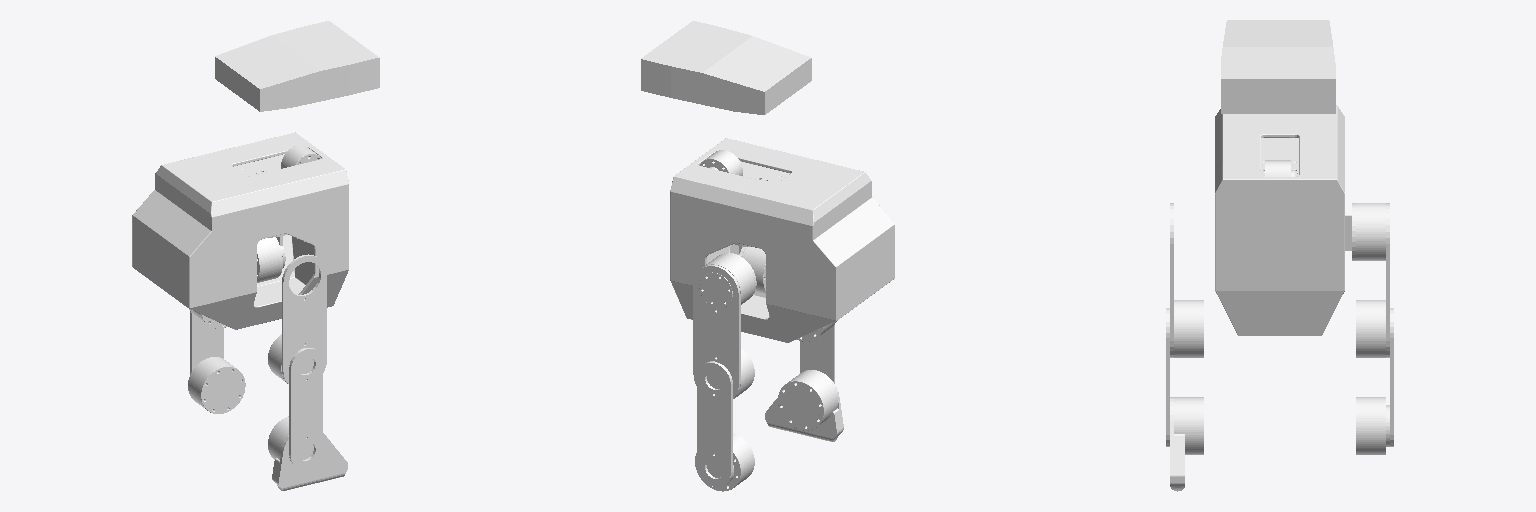
The robot description file, URDF, robot "DuckDuck":
<?xml version="1.0" encoding="utf-8"?>
<!-- This URDF was automatically created by SolidWorks to URDF Exporter! Originally created by [author] ([email redacted]) 
     Commit Version: 1.6.0-4-g7f85cfe  Build Version: 1.6.7995.38578
     For more information, please see http://wiki.ros.org/sw_urdf_exporter -->
<robot
  name="DuckDuck">
  <link
    name="base">
    <inertial>
      <origin
        xyz="-0.0100928530626795 -8.48766786223088E-05 0.0417109438407734"
        rpy="0 0 0" />
      <mass
        value="1.70037419863104" />
      <inertia
        ixx="0.011026305690898"
        ixy="1.15603196806844E-08"
        ixz="0.000185395732857203"
        iyy="0.0172159470283866"
        iyz="-8.11570230368693E-09"
        izz="0.0151809445338661" />
    </inertial>
    <visual>
      <origin
        xyz="0 0 0"
        rpy="0 0 0" />
      <geometry>
        <mesh
          filename="package://DuckDuck/meshes/base.STL" />
      </geometry>
      <material
        name="">
        <color
          rgba="1 1 1 1" />
      </material>
    </visual>
    <collision>
      <origin
        xyz="0 0 0"
        rpy="0 0 0" />
      <geometry>
        <mesh
          filename="package://DuckDuck/meshes/base.STL" />
      </geometry>
    </collision>
  </link>
  <link
    name="left_hip_yaw">
    <inertial>
      <origin
        xyz="-0.0148415027804522 -1.42278207764107E-05 0.00518098759586441"
        rpy="0 0 0" />
      <mass
        value="0.22770651071542" />
      <inertia
        ixx="0.00016064594987398"
        ixy="-1.05844380132886E-08"
        ixz="2.79494697437767E-06"
        iyy="0.000122883197379238"
        iyz="5.01180502056662E-08"
        izz="0.000114845036646105" />
    </inertial>
    <visual>
      <origin
        xyz="0 0 0"
        rpy="0 0 0" />
      <geometry>
        <mesh
          filename="package://DuckDuck/meshes/left_hip_yaw.STL" />
      </geometry>
      <material
        name="">
        <color
          rgba="1 1 1 1" />
      </material>
    </visual>
    <collision>
      <origin
        xyz="0 0 0"
        rpy="0 0 0" />
      <geometry>
        <mesh
          filename="package://DuckDuck/meshes/left_hip_yaw.STL" />
      </geometry>
    </collision>
  </link>
  <joint
    name="left_hip_yaw_joint"
    type="revolute">
    <origin
      xyz="0 0.04 0"
      rpy="0 0 0" />
    <parent
      link="base" />
    <child
      link="left_hip_yaw" />
    <axis
      xyz="0 0 1" />
    <limit
      lower="0"
      upper="0"
      effort="0"
      velocity="0" />
  </joint>
  <link
    name="left_hip_roll">
    <inertial>
      <origin
        xyz="0.000168686556307626 0.0732538542750958 -1.42428991109084E-05"
        rpy="0 0 0" />
      <mass
        value="0.22746544778837" />
      <inertia
        ixx="0.000139061664775468"
        ixy="9.72203682012483E-07"
        ixz="-3.27718468280223E-09"
        iyy="0.000154215112847962"
        iyz="5.57863354309883E-08"
        izz="0.000132221036670331" />
    </inertial>
    <visual>
      <origin
        xyz="0 0 0"
        rpy="0 0 0" />
      <geometry>
        <mesh
          filename="package://DuckDuck/meshes/left_hip_roll.STL" />
      </geometry>
      <material
        name="">
        <color
          rgba="1 1 1 1" />
      </material>
    </visual>
    <collision>
      <origin
        xyz="0 0 0"
        rpy="0 0 0" />
      <geometry>
        <mesh
          filename="package://DuckDuck/meshes/left_hip_roll.STL" />
      </geometry>
    </collision>
  </link>
  <joint
    name="left_hip_roll_joint"
    type="revolute">
    <origin
      xyz="0 0 0"
      rpy="0 0 0" />
    <parent
      link="left_hip_yaw" />
    <child
      link="left_hip_roll" />
    <axis
      xyz="1 0 0" />
    <limit
      lower="0"
      upper="0"
      effort="0"
      velocity="0" />
  </joint>
  <link
    name="left_hip_pitch">
    <inertial>
      <origin
        xyz="-3.32202824204654E-16 0.0845594117245176 -0.125225619873394"
        rpy="0 0 0" />
      <mass
        value="0.24023854356995" />
      <inertia
        ixx="0.000225138484662056"
        ixy="-4.43280210739743E-22"
        ixz="-1.35357677623209E-19"
        iyy="0.000288595828376715"
        iyz="3.51421674682321E-20"
        izz="0.000123129101652142" />
    </inertial>
    <visual>
      <origin
        xyz="0 0 0"
        rpy="0 0 0" />
      <geometry>
        <mesh
          filename="package://DuckDuck/meshes/left_hip_pitch.STL" />
      </geometry>
      <material
        name="">
        <color
          rgba="1 1 1 1" />
      </material>
    </visual>
    <collision>
      <origin
        xyz="0 0 0"
        rpy="0 0 0" />
      <geometry>
        <mesh
          filename="package://DuckDuck/meshes/left_hip_pitch.STL" />
      </geometry>
    </collision>
  </link>
  <joint
    name="left_hip_pitch_joint"
    type="revolute">
    <origin
      xyz="0 0 0"
      rpy="0 0 0" />
    <parent
      link="left_hip_roll" />
    <child
      link="left_hip_pitch" />
    <axis
      xyz="0 1 0" />
    <limit
      lower="0"
      upper="0"
      effort="0"
      velocity="0" />
  </joint>
  <link
    name="left_knee_pitch">
    <inertial>
      <origin
        xyz="-3.12005691558595E-16 -0.00857325265941739 -0.127010278601144"
        rpy="0 0 0" />
      <mass
        value="0.232718078417979" />
      <inertia
        ixx="0.000202660360914128"
        ixy="6.13649057241039E-21"
        ixz="-1.26670406604961E-19"
        iyy="0.000249803523853592"
        iyz="4.09634684632911E-20"
        izz="0.000106783585605481" />
    </inertial>
    <visual>
      <origin
        xyz="0 0 0"
        rpy="0 0 0" />
      <geometry>
        <mesh
          filename="package://DuckDuck/meshes/left_knee_pitch.STL" />
      </geometry>
      <material
        name="">
        <color
          rgba="1 1 1 1" />
      </material>
    </visual>
    <collision>
      <origin
        xyz="0 0 0"
        rpy="0 0 0" />
      <geometry>
        <mesh
          filename="package://DuckDuck/meshes/left_knee_pitch.STL" />
      </geometry>
    </collision>
  </link>
  <joint
    name="left_knee_pitch_joint"
    type="revolute">
    <origin
      xyz="0 0.0936181760425075 -0.14"
      rpy="0 0 0" />
    <parent
      link="left_hip_pitch" />
    <child
      link="left_knee_pitch" />
    <axis
      xyz="0 1 0" />
    <limit
      lower="0"
      upper="0"
      effort="0"
      velocity="0" />
  </joint>
  <link
    name="left_ankle_pitch">
    <inertial>
      <origin
        xyz="0.0165320915802277 0.000878638979678964 -0.0350036570544409"
        rpy="0 0 0" />
      <mass
        value="0.0934205516990418" />
      <inertia
        ixx="4.08203466514556E-05"
        ixy="1.35770948841666E-06"
        ixz="3.73111146640576E-07"
        iyy="0.000143785268215984"
        iyz="-2.85203021993322E-06"
        izz="0.000109322370322" />
    </inertial>
    <visual>
      <origin
        xyz="0 0 0"
        rpy="0 0 0" />
      <geometry>
        <mesh
          filename="package://DuckDuck/meshes/left_ankle_pitch.STL" />
      </geometry>
      <material
        name="">
        <color
          rgba="1 1 1 1" />
      </material>
    </visual>
    <collision>
      <origin
        xyz="0 0 0"
        rpy="0 0 0" />
      <geometry>
        <mesh
          filename="package://DuckDuck/meshes/left_ankle_pitch.STL" />
      </geometry>
    </collision>
  </link>
  <joint
    name="left_ankle_pitch_joint"
    type="revolute">
    <origin
      xyz="0 0 -0.14"
      rpy="0 0 0" />
    <parent
      link="left_knee_pitch" />
    <child
      link="left_ankle_pitch" />
    <axis
      xyz="0 1 0" />
    <limit
      lower="0"
      upper="0"
      effort="0"
      velocity="0" />
  </joint>
  <link
    name="right_hip_yaw">
    <inertial>
      <origin
        xyz="-0.0148415027804522 -1.4227820776147E-05 0.00518098759586436"
        rpy="0 0 0" />
      <mass
        value="0.22770651071542" />
      <inertia
        ixx="0.00016064594987398"
        ixy="-1.05844380133239E-08"
        ixz="2.79494697437761E-06"
        iyy="0.000122883197379238"
        iyz="5.01180502056588E-08"
        izz="0.000114845036646105" />
    </inertial>
    <visual>
      <origin
        xyz="0 0 0"
        rpy="0 0 0" />
      <geometry>
        <mesh
          filename="package://DuckDuck/meshes/right_hip_yaw.STL" />
      </geometry>
      <material
        name="">
        <color
          rgba="1 1 1 1" />
      </material>
    </visual>
    <collision>
      <origin
        xyz="0 0 0"
        rpy="0 0 0" />
      <geometry>
        <mesh
          filename="package://DuckDuck/meshes/right_hip_yaw.STL" />
      </geometry>
    </collision>
  </link>
  <joint
    name="right_hip_yaw_joint"
    type="revolute">
    <origin
      xyz="0 -0.04 0"
      rpy="0 0 0" />
    <parent
      link="base" />
    <child
      link="right_hip_yaw" />
    <axis
      xyz="0 0 1" />
    <limit
      lower="0"
      upper="0"
      effort="0"
      velocity="0" />
  </joint>
  <link
    name="right_hip_roll">
    <inertial>
      <origin
        xyz="0.000168686556307084 -0.073253854275096 1.42428991107141E-05"
        rpy="0 0 0" />
      <mass
        value="0.22746544778837" />
      <inertia
        ixx="0.000139061664775468"
        ixy="-9.72203682012506E-07"
        ixz="3.27718468277945E-09"
        iyy="0.000154215112847962"
        iyz="5.57863354310647E-08"
        izz="0.000132221036670331" />
    </inertial>
    <visual>
      <origin
        xyz="0 0 0"
        rpy="0 0 0" />
      <geometry>
        <mesh
          filename="package://DuckDuck/meshes/right_hip_roll.STL" />
      </geometry>
      <material
        name="">
        <color
          rgba="1 1 1 1" />
      </material>
    </visual>
    <collision>
      <origin
        xyz="0 0 0"
        rpy="0 0 0" />
      <geometry>
        <mesh
          filename="package://DuckDuck/meshes/right_hip_roll.STL" />
      </geometry>
    </collision>
  </link>
  <joint
    name="right_hip_roll_joint"
    type="revolute">
    <origin
      xyz="0 0 0"
      rpy="0 0 0" />
    <parent
      link="right_hip_yaw" />
    <child
      link="right_hip_roll" />
    <axis
      xyz="1 0 0" />
    <limit
      lower="0"
      upper="0"
      effort="0"
      velocity="0" />
  </joint>
  <link
    name="right_hip_pitch">
    <inertial>
      <origin
        xyz="9.8006072213064E-17 -0.0845594117245176 -0.125225619873394"
        rpy="0 0 0" />
      <mass
        value="0.24023854356995" />
      <inertia
        ixx="0.000225138484662056"
        ixy="-5.10276734197436E-20"
        ixz="-1.59794603006488E-19"
        iyy="0.000288595828376715"
        iyz="-2.41601703029954E-20"
        izz="0.000123129101652142" />
    </inertial>
    <visual>
      <origin
        xyz="0 0 0"
        rpy="0 0 0" />
      <geometry>
        <mesh
          filename="package://DuckDuck/meshes/right_hip_pitch.STL" />
      </geometry>
      <material
        name="">
        <color
          rgba="1 1 1 1" />
      </material>
    </visual>
    <collision>
      <origin
        xyz="0 0 0"
        rpy="0 0 0" />
      <geometry>
        <mesh
          filename="package://DuckDuck/meshes/right_hip_pitch.STL" />
      </geometry>
    </collision>
  </link>
  <joint
    name="right_hip_pitch_joint"
    type="revolute">
    <origin
      xyz="0 0 0"
      rpy="0 0 0" />
    <parent
      link="right_hip_roll" />
    <child
      link="right_hip_pitch" />
    <axis
      xyz="0 -1 0" />
    <limit
      lower="0"
      upper="0"
      effort="0"
      velocity="0" />
  </joint>
  <link
    name="right_knee_pitch">
    <inertial>
      <origin
        xyz="-1.85650662362224E-16 0.00857325265941841 -0.127010278601144"
        rpy="0 0 0" />
      <mass
        value="0.232718078417979" />
      <inertia
        ixx="0.000202660360914127"
        ixy="-3.41749317195182E-20"
        ixz="-1.53656921997374E-19"
        iyy="0.000249803523853592"
        iyz="2.6292760803347E-20"
        izz="0.000106783585605481" />
    </inertial>
    <visual>
      <origin
        xyz="0 0 0"
        rpy="0 0 0" />
      <geometry>
        <mesh
          filename="package://DuckDuck/meshes/right_knee_pitch.STL" />
      </geometry>
      <material
        name="">
        <color
          rgba="1 1 1 1" />
      </material>
    </visual>
    <collision>
      <origin
        xyz="0 0 0"
        rpy="0 0 0" />
      <geometry>
        <mesh
          filename="package://DuckDuck/meshes/right_knee_pitch.STL" />
      </geometry>
    </collision>
  </link>
  <joint
    name="right_knee_pitch_joint"
    type="revolute">
    <origin
      xyz="0 -0.0936181760425084 -0.14"
      rpy="0 0 0" />
    <parent
      link="right_hip_pitch" />
    <child
      link="right_knee_pitch" />
    <axis
      xyz="0 -1 0" />
    <limit
      lower="0"
      upper="0"
      effort="0"
      velocity="0" />
  </joint>
  <link
    name="right_ankle_pitch">
    <inertial>
      <origin
        xyz="0.0165320706873633 -0.000878627774280077 -0.0350036769927607"
        rpy="0 0 0" />
      <mass
        value="0.0934206054212803" />
      <inertia
        ixx="4.08203779126198E-05"
        ixy="-1.35771959946846E-06"
        ixz="3.73028599539108E-07"
        iyy="0.00014378533207983"
        iyz="2.85193277907882E-06"
        izz="0.000109322408669691" />
    </inertial>
    <visual>
      <origin
        xyz="0 0 0"
        rpy="0 0 0" />
      <geometry>
        <mesh
          filename="package://DuckDuck/meshes/right_ankle_pitch.STL" />
      </geometry>
      <material
        name="">
        <color
          rgba="1 1 1 1" />
      </material>
    </visual>
    <collision>
      <origin
        xyz="0 0 0"
        rpy="0 0 0" />
      <geometry>
        <mesh
          filename="package://DuckDuck/meshes/right_ankle_pitch.STL" />
      </geometry>
    </collision>
  </link>
  <joint
    name="right_ankle_pitch_joint"
    type="revolute">
    <origin
      xyz="0 0 -0.14"
      rpy="0 0 0" />
    <parent
      link="right_knee_pitch" />
    <child
      link="right_ankle_pitch" />
    <axis
      xyz="0 -1 0" />
    <limit
      lower="0"
      upper="0"
      effort="0"
      velocity="0" />
  </joint>
  <link
    name="neck_pitch">
    <inertial>
      <origin
        xyz="2.35922392732846E-16 -0.00249999999999993 0.0500927287975885"
        rpy="0 0 0" />
      <mass
        value="0.0944141515929346" />
      <inertia
        ixx="5.98227661229977E-05"
        ixy="8.64520632238252E-21"
        ixz="-3.32476920708994E-20"
        iyy="5.75228750179582E-05"
        iyz="-1.13915264865179E-20"
        izz="3.40590799851078E-05" />
    </inertial>
    <visual>
      <origin
        xyz="0 0 0"
        rpy="0 0 0" />
      <geometry>
        <mesh
          filename="package://DuckDuck/meshes/neck_pitch.STL" />
      </geometry>
      <material
        name="">
        <color
          rgba="1 1 1 1" />
      </material>
    </visual>
    <collision>
      <origin
        xyz="0 0 0"
        rpy="0 0 0" />
      <geometry>
        <mesh
          filename="package://DuckDuck/meshes/neck_pitch.STL" />
      </geometry>
    </collision>
  </link>
  <joint
    name="neck_pitch_joint"
    type="revolute">
    <origin
      xyz="0.0775 0 0.10887"
      rpy="0 0 0" />
    <parent
      link="base" />
    <child
      link="neck_pitch" />
    <axis
      xyz="0 1 0" />
    <limit
      lower="0"
      upper="0"
      effort="0"
      velocity="0" />
  </joint>
  <link
    name="neck_roll">
    <inertial>
      <origin
        xyz="5.55111512312578E-17 9.10729824887824E-18 0.025398197821265"
        rpy="0 0 0" />
      <mass
        value="0.0554895568861581" />
      <inertia
        ixx="3.52155621202351E-05"
        ixy="1.7617450740462E-20"
        ixz="-3.7604807612615E-20"
        iyy="2.9525444201718E-05"
        iyz="-6.05181071715776E-21"
        izz="9.34760082952307E-06" />
    </inertial>
    <visual>
      <origin
        xyz="0 0 0"
        rpy="0 0 0" />
      <geometry>
        <mesh
          filename="package://DuckDuck/meshes/neck_roll.STL" />
      </geometry>
      <material
        name="">
        <color
          rgba="1 1 1 1" />
      </material>
    </visual>
    <collision>
      <origin
        xyz="0 0 0"
        rpy="0 0 0" />
      <geometry>
        <mesh
          filename="package://DuckDuck/meshes/neck_roll.STL" />
      </geometry>
    </collision>
  </link>
  <joint
    name="neck_roll_joint"
    type="revolute">
    <origin
      xyz="0 -0.0025 0.0775"
      rpy="0 0 0" />
    <parent
      link="neck_pitch" />
    <child
      link="neck_roll" />
    <axis
      xyz="-1 0 0" />
    <limit
      lower="0"
      upper="0"
      effort="0"
      velocity="0" />
  </joint>
  <link
    name="neck_yaw">
    <inertial>
      <origin
        xyz="-0.00601691442032241 1.04083408558608E-17 0.0242972736541135"
        rpy="0 0 0" />
      <mass
        value="1.36489294645362" />
      <inertia
        ixx="0.00264611796494262"
        ixy="-7.22317613024855E-18"
        ixz="-6.37095515701376E-05"
        iyy="0.00458756210789547"
        iyz="4.40746799198594E-19"
        izz="0.00671153515827188" />
    </inertial>
    <visual>
      <origin
        xyz="0 0 0"
        rpy="0 0 0" />
      <geometry>
        <mesh
          filename="package://DuckDuck/meshes/neck_yaw.STL" />
      </geometry>
      <material
        name="">
        <color
          rgba="1 1 1 1" />
      </material>
    </visual>
    <collision>
      <origin
        xyz="0 0 0"
        rpy="0 0 0" />
      <geometry>
        <mesh
          filename="package://DuckDuck/meshes/neck_yaw.STL" />
      </geometry>
    </collision>
  </link>
  <joint
    name="neck_yaw_joint"
    type="revolute">
    <origin
      xyz="0 0 0.061"
      rpy="0 0 0" />
    <parent
      link="neck_roll" />
    <child
      link="neck_yaw" />
    <axis
      xyz="0 0 1" />
    <limit
      lower="0"
      upper="0"
      effort="0"
      velocity="0" />
  </joint>
</robot>

--- What the picture shows (computed from the rendered views, not written in the file) ---
3 views of the same robot in one strip: view 1: azimuth 30°, elevation 25°; view 2: azimuth 150°, elevation 25°; view 3: azimuth 270°, elevation 25° (orthographic).
Robot: DuckDuck — 14 links, 13 joints (13 revolute); root link base; default pose: every joint at zero.
Links seen in each view (by area): view 1: base, neck_yaw, right_hip_pitch, right_knee_pitch, left_knee_pitch, right_ankle_pitch, right_hip_yaw; view 2: base, neck_yaw, left_knee_pitch, left_hip_pitch, right_knee_pitch, left_hip_roll, right_ankle_pitch, left_hip_yaw; view 3: base, neck_yaw, left_knee_pitch, left_hip_pitch, right_hip_pitch, left_hip_roll, right_knee_pitch, right_ankle_pitch.
Link boxes in pixels (box(x1,y1,x2,y2)): base: box(132, 132, 348, 329); neck_yaw: box(215, 21, 379, 111); right_hip_pitch: box(268, 254, 326, 383); right_knee_pitch: box(268, 348, 322, 468); left_knee_pitch: box(188, 311, 245, 413); right_ankle_pitch: box(272, 433, 347, 490); right_hip_yaw: box(257, 234, 287, 282); base: box(670, 138, 894, 342); neck_yaw: box(641, 21, 811, 114); left_knee_pitch: box(695, 361, 754, 491); left_hip_pitch: box(693, 265, 754, 398); right_knee_pitch: box(778, 325, 837, 430); left_hip_roll: box(699, 247, 756, 307); right_ankle_pitch: box(765, 370, 843, 441); left_hip_yaw: box(735, 243, 765, 293); base: box(1215, 105, 1344, 335); neck_yaw: box(1221, 20, 1335, 113); left_knee_pitch: box(1356, 308, 1393, 454); left_hip_pitch: box(1356, 203, 1389, 357); right_hip_pitch: box(1170, 203, 1203, 357); left_hip_roll: box(1345, 203, 1385, 260); right_knee_pitch: box(1166, 308, 1203, 454); right_ankle_pitch: box(1170, 397, 1184, 491).
Bounding box of the posed robot: 0.3295 × 0.2982 × 0.6398 m (x, y, z).
10 mesh visuals loaded from 14 distinct referenced files (10 binary STL); not drawn: 4 (reference not matched to a file when rendering).
